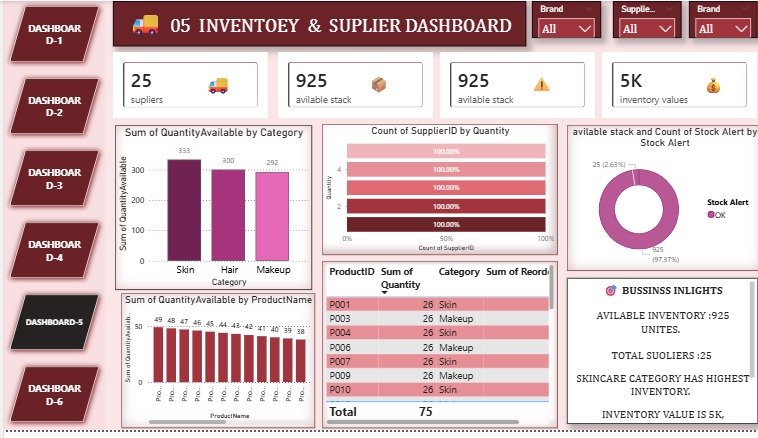

What the dashboard file says about the page in this screenshot:
{"tool":"powerbi","page":{"name":"DASHBOARD-5","canvas":[1280,720],"ordinal":4},"visuals":[{"type":"textbox","box":[183.1,0,693.8,75.6],"z":0},{"type":"cardVisual","fields":{"Data":["Customers.supliers"]},"box":[183.1,85.7,260.4,110.9],"z":1000},{"type":"cardVisual","fields":{"Data":["Customers.avilable stack"]},"box":[460.3,85.7,260.4,110.9],"z":2000},{"type":"cardVisual","fields":{"Data":["Customers.inventory values"]},"box":[1004.5,85.7,260.4,110.9],"z":3000},{"type":"cardVisual","fields":{"Data":["Customers.avilable stack"]},"box":[732.4,85.7,260.4,110.9],"z":4000},{"type":"donutChart","fields":{"Y":["Customers.avilable stack","CountNonNull(Inventory.Stock Alert)"],"Category":["Inventory.Stock Alert"]},"box":[945.7,208.3,327.6,245.2],"z":5000},{"type":"columnChart","fields":{"Category":["Products.ProductName"],"Y":["Sum(Inventory.QuantityAvailable)"]},"box":[196.5,490.5,325.9,226.8],"z":6000},{"type":"clusteredColumnChart","fields":{"Category":["Products.Category"],"Y":["Sum(Inventory.QuantityAvailable)"]},"box":[186.5,208.3,330.9,277.2],"z":7000},{"type":"hundredPercentStackedBarChart","fields":{"Category":["Sales.Quantity"],"Y":["CountNonNull(Suppliers.SupplierID)"]},"box":[534.2,206.6,396.4,220.1],"z":8000},{"type":"tableEx","fields":{"Values":["Returns.ProductID","Sum(Sales.Quantity)","Products.Category","Sum(Inventory.ReorderLevel)"]},"box":[534.2,436.7,396.4,280.5],"z":9000},{"type":"slicer","fields":{"Values":["Products.Brand"]},"box":[1150.7,0,115,62],"z":10000},{"type":"slicer","fields":{"Values":["Suppliers.SupplierName"]},"box":[1023,0,115,62],"z":11000},{"type":"slicer","fields":{"Values":["Products.Brand"]},"box":[886.9,0,115.9,62.2],"z":12000},{"type":"pageNavigator","box":[0,0,169.7,720.6],"z":13000},{"type":"textbox","box":[945.7,465.3,320.8,245.2],"z":14000},{"type":"textbox","box":[606.4,115.9,55.4,47],"z":15000},{"type":"textbox","box":[1160.7,117.6,62.2,47],"z":16000},{"type":"textbox","box":[332.6,110.9,53.8,58.8],"z":17000},{"type":"textbox","box":[876.9,114.2,53.8,57.1],"z":18000}]}

Visuals, with their boxes in screenshot pixels (x1, y1, x2, y2), scaled from the page's 1280x720 canvas onto the 758x438 screenshot:
textbox: [108, 0, 519, 46]
cardVisual - Customers.supliers: [108, 52, 263, 120]
cardVisual - Customers.avilable stack: [273, 52, 427, 120]
cardVisual - Customers.inventory values: [595, 52, 749, 120]
cardVisual - Customers.avilable stack: [434, 52, 588, 120]
donutChart - Customers.avilable stack x CountNonNull(Inventory.Stock Alert): [560, 127, 754, 276]
columnChart - Products.ProductName x Sum(Inventory.QuantityAvailable): [116, 298, 309, 436]
clusteredColumnChart - Products.Category x Sum(Inventory.QuantityAvailable): [110, 127, 306, 295]
hundredPercentStackedBarChart - Sales.Quantity x CountNonNull(Suppliers.SupplierID): [316, 126, 551, 260]
tableEx - Returns.ProductID x Sum(Sales.Quantity): [316, 266, 551, 436]
slicer - Products.Brand: [681, 0, 750, 38]
slicer - Suppliers.SupplierName: [606, 0, 674, 38]
slicer - Products.Brand: [525, 0, 594, 38]
pageNavigator: [0, 0, 100, 437]
textbox: [560, 283, 750, 432]
textbox: [359, 71, 392, 99]
textbox: [687, 72, 724, 100]
textbox: [197, 67, 229, 103]
textbox: [519, 69, 551, 104]
